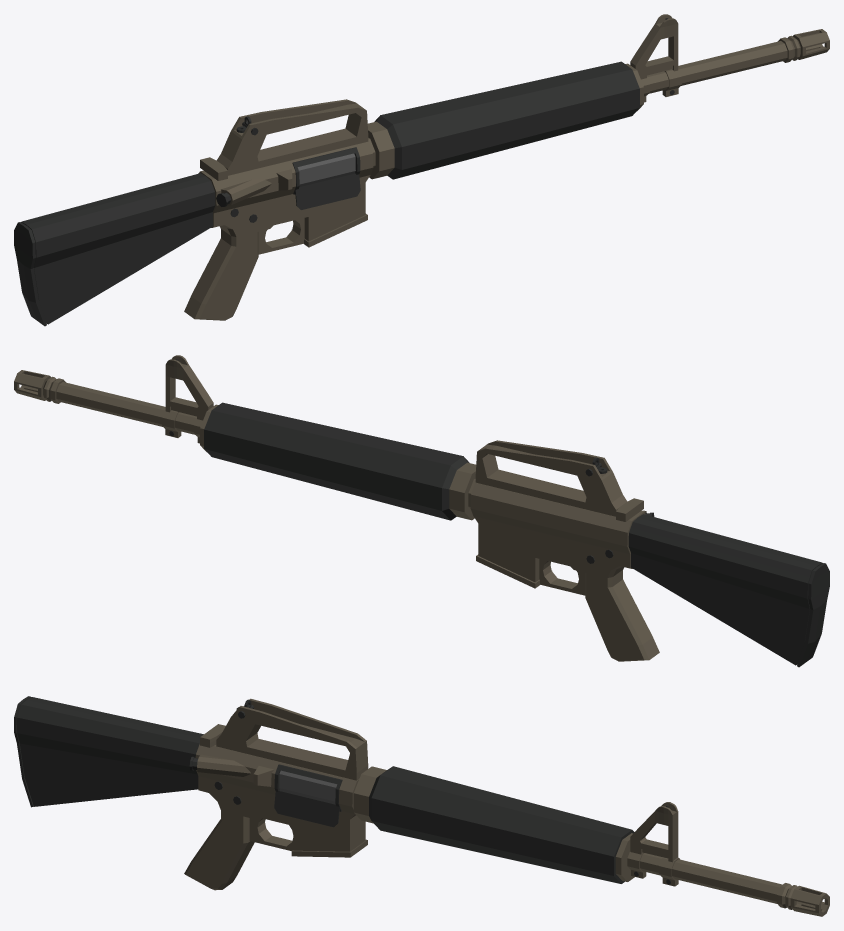
The model's file is SM_AssaultRifle4_02.glb.
3 renders of one model, top to bottom at view 1: azimuth 30°, elevation 25°; view 2: azimuth 150°, elevation 25°; view 3: azimuth 330°, elevation 25°, orthographic.
Visible parts, largest first — view 1: SM_AssaultRifle4_02; view 2: SM_AssaultRifle4_02; view 3: SM_AssaultRifle4_02.
Boxes of the visible parts, bbox=[...] form: SM_AssaultRifle4_02: bbox=[14, 14, 829, 326]; SM_AssaultRifle4_02: bbox=[14, 355, 829, 667]; SM_AssaultRifle4_02: bbox=[14, 696, 829, 916].
Size of the model in its own units: 1.04 by 0.2381 by 0.0756.
1 material, 1 textured.
